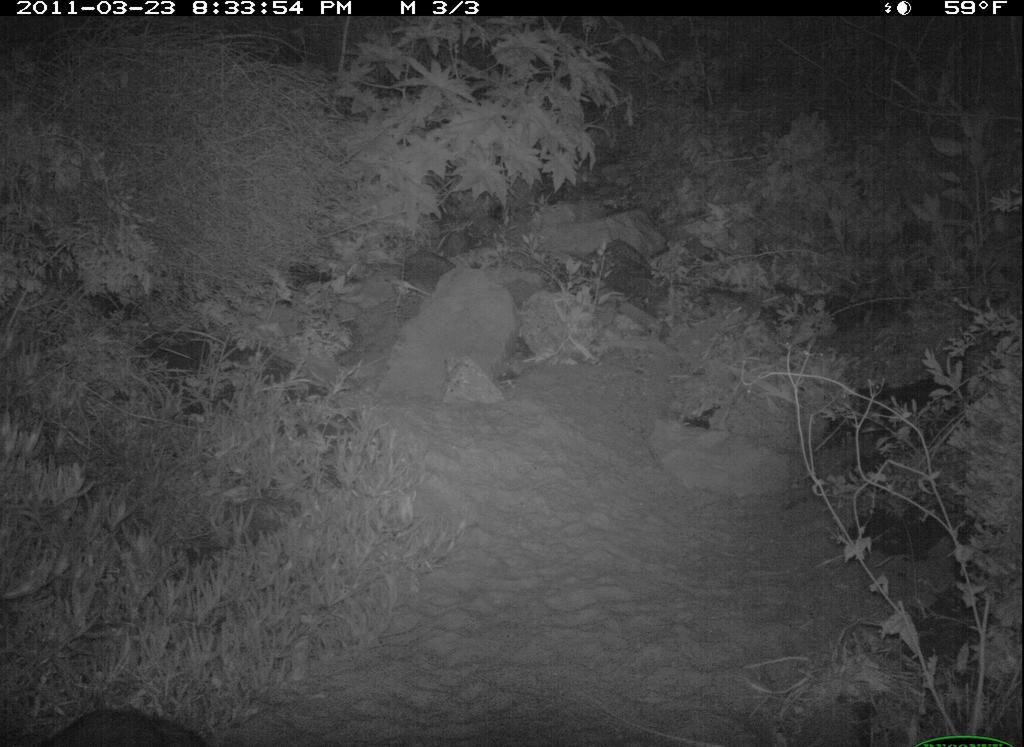raccoon: (24, 696, 225, 747)
